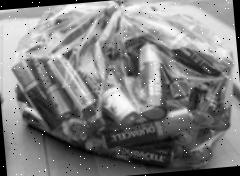electronic: (75, 59, 140, 132), (14, 49, 60, 134), (30, 49, 80, 124), (134, 37, 169, 125)
